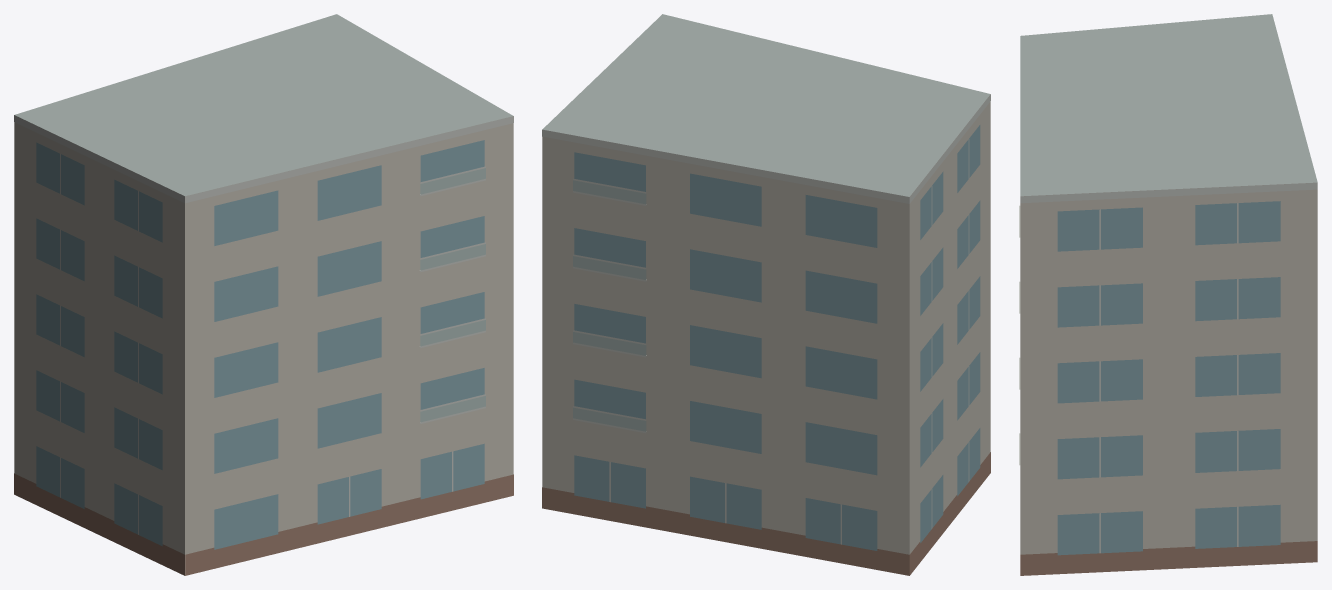
File: survey-upis-32571359.glb
The picture shows the model from 3 angles, left to right: view 1: azimuth 30°, elevation 25°; view 2: azimuth 150°, elevation 25°; view 3: azimuth 270°, elevation 25°; orthographic projection.
Visible parts, largest first — view 1: survey-upis-32571359.tmp; view 2: survey-upis-32571359.tmp; view 3: survey-upis-32571359.tmp.
Part boxes in pixels (bbox=[...]): survey-upis-32571359.tmp: bbox=[14, 14, 513, 575]; survey-upis-32571359.tmp: bbox=[542, 14, 990, 575]; survey-upis-32571359.tmp: bbox=[1019, 14, 1317, 575].
Size of the model in its own units: 13.55 by 13.15 by 9.39.
